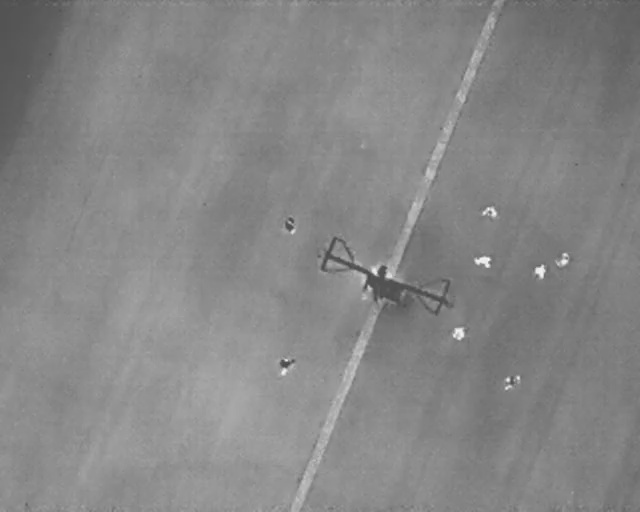Person: (277, 356, 296, 376), (474, 252, 492, 270), (480, 203, 498, 219), (554, 250, 570, 268), (503, 374, 521, 390), (284, 215, 297, 237), (450, 326, 467, 342), (532, 263, 547, 280)
